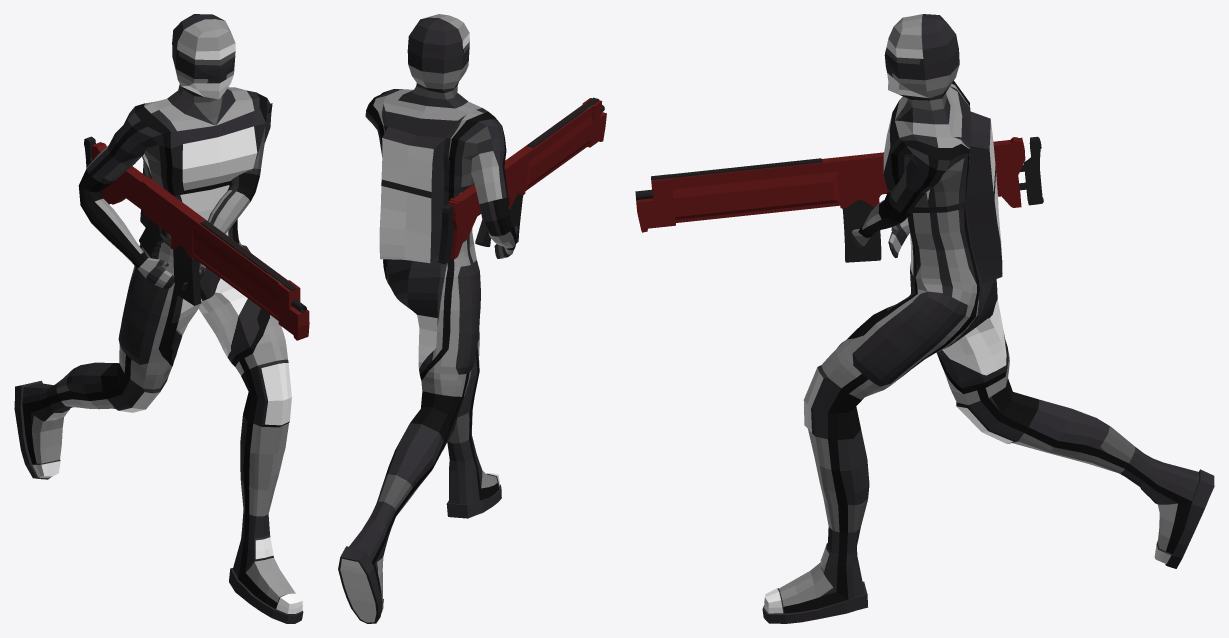
File: SCR8.obj
The picture shows the model from 3 angles, left to right: view 1: azimuth 30°, elevation 25°; view 2: azimuth 150°, elevation 25°; view 3: azimuth 270°, elevation 25°; orthographic projection. The views are drawn at different scales.
Visible parts, largest first — view 1: metarig_object_metarig_mesh, Cube.001; view 2: metarig_object_metarig_mesh, Cube.001; view 3: metarig_object_metarig_mesh, Cube.001.
Part boxes in pixels (x1,y1,x2,y2): metarig_object_metarig_mesh: [14, 14, 303, 623]; Cube.001: [84, 136, 309, 340]; metarig_object_metarig_mesh: [338, 14, 517, 623]; Cube.001: [438, 97, 606, 264]; metarig_object_metarig_mesh: [762, 14, 1214, 623]; Cube.001: [635, 136, 1043, 262].
Size of the model in its own units: 0.4656 by 1.46 by 1.29.
2 materials, 2 textured.
